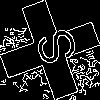S: (25, 25, 80, 72)
